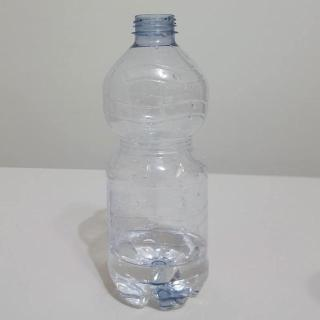Anorganik: (102, 10, 216, 312)
